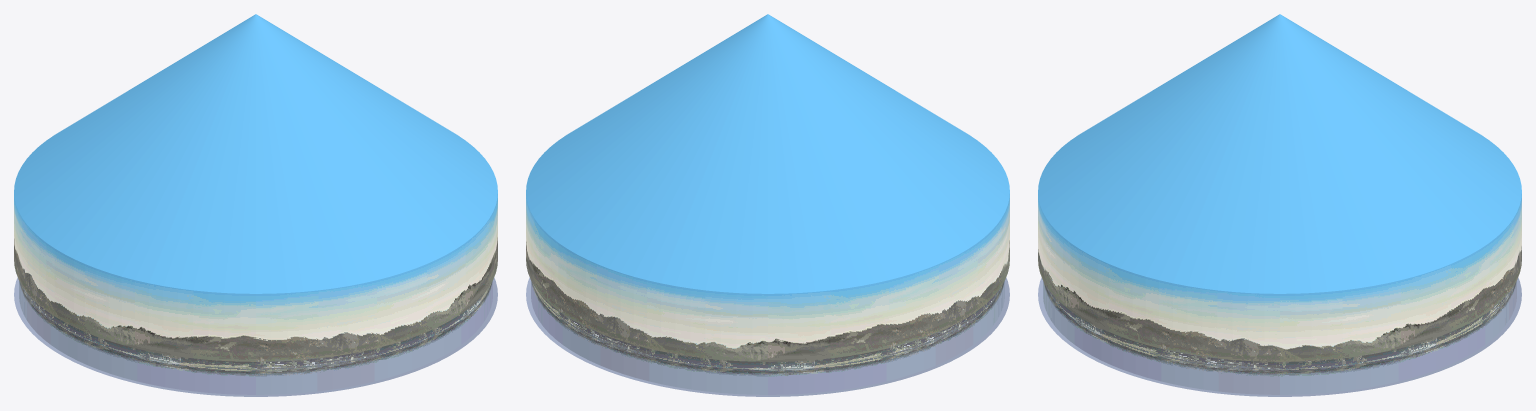
File: sky-cy2.glb
3 views of the same model, side by side, from view 1: azimuth 30°, elevation 25°; view 2: azimuth 150°, elevation 25°; view 3: azimuth 270°, elevation 25° (orthographic).
Visible parts, largest first — view 1: sky-cy2; view 2: sky-cy2; view 3: sky-cy2.
Boxes of the visible parts, x1=… form: sky-cy2: x1=14, y1=14, x2=497, y2=396; sky-cy2: x1=526, y1=14, x2=1009, y2=396; sky-cy2: x1=1038, y1=14, x2=1521, y2=396.
Size of the model in its own units: 2 by 1.7 by 2.
4 materials, 4 textured.
